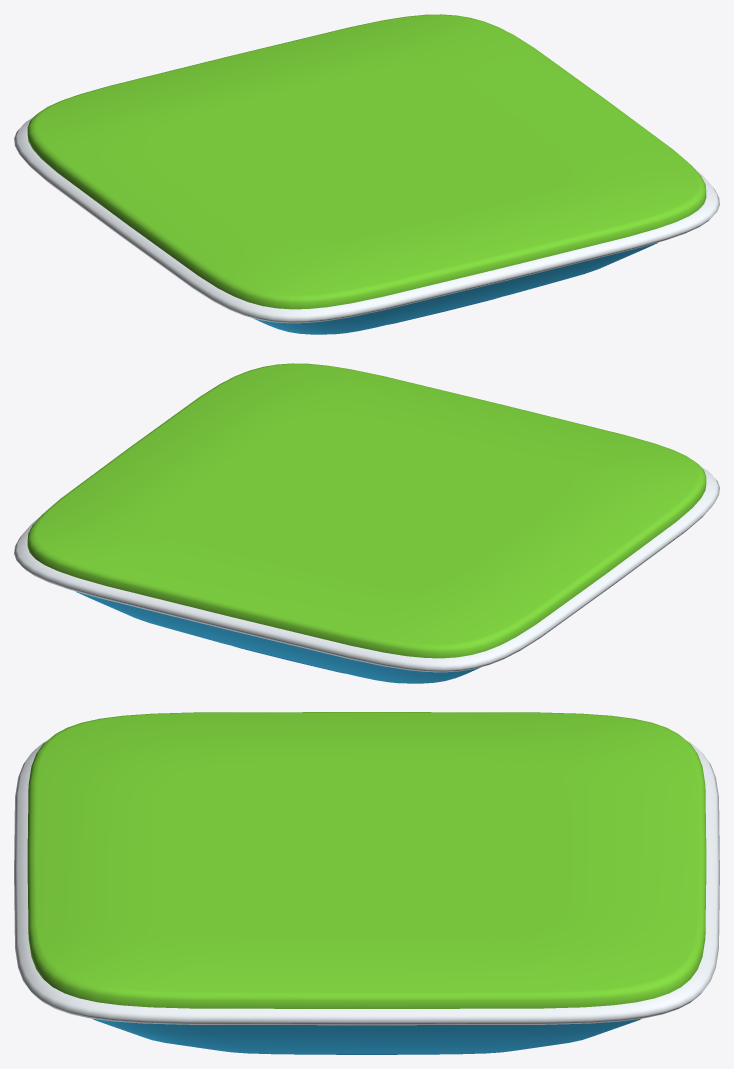
Rendered from Pedestal.fbx.
3 renders of one model, top to bottom at view 1: azimuth 30°, elevation 25°; view 2: azimuth 150°, elevation 25°; view 3: azimuth 270°, elevation 25°, orthographic. The views are drawn at different scales.
Parts seen in each view (by area): view 1: Pedestal; view 2: Pedestal; view 3: Pedestal.
Boxes of the visible parts, x1,y1,x2,y2 form: Pedestal: [14, 14, 719, 334]; Pedestal: [14, 363, 719, 683]; Pedestal: [14, 712, 719, 1054].
Bounding box in the file's own units: 14.56 × 4.3 × 14.56.
